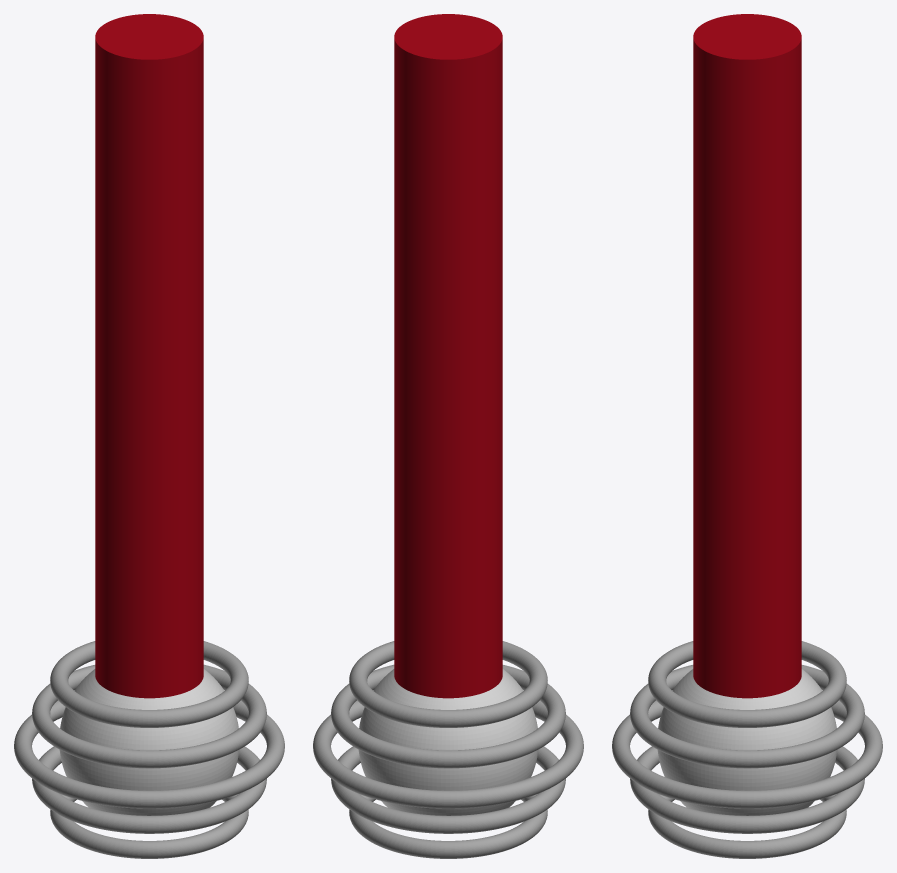
The model's file is tesla.obj.
3 renders of one model, left to right at view 1: azimuth 30°, elevation 25°; view 2: azimuth 150°, elevation 25°; view 3: azimuth 270°, elevation 25°, orthographic.
Parts seen in each view (by area): view 1: Cylinder, Sphere, Torus.003, Torus.002, Torus.001, Torus.004, Torus.005; view 2: Cylinder, Sphere, Torus.003, Torus.002, Torus.001, Torus.004, Torus.005; view 3: Cylinder, Sphere, Torus.003, Torus.002, Torus.001, Torus.004, Torus.005.
Part boxes in pixels (x1,y1,x2,y2): Cylinder: (95, 14, 203, 698); Sphere: (59, 669, 239, 815); Torus.003: (14, 700, 284, 808); Torus.002: (32, 664, 266, 768); Torus.001: (50, 641, 248, 727); Torus.004: (32, 746, 266, 833); Torus.005: (50, 794, 248, 858); Cylinder: (394, 14, 502, 698); Sphere: (358, 669, 538, 815); Torus.003: (313, 700, 583, 808); Torus.002: (331, 664, 565, 768); Torus.001: (349, 641, 547, 727); Torus.004: (331, 746, 565, 833); Torus.005: (349, 794, 547, 858); Cylinder: (693, 14, 801, 698); Sphere: (657, 669, 837, 815); Torus.003: (612, 700, 882, 808); Torus.002: (630, 665, 864, 768); Torus.001: (648, 641, 846, 727); Torus.004: (630, 746, 864, 833); Torus.005: (648, 794, 846, 858).
Size of the model in its own units: 1.5 by 4.8 by 1.5.
